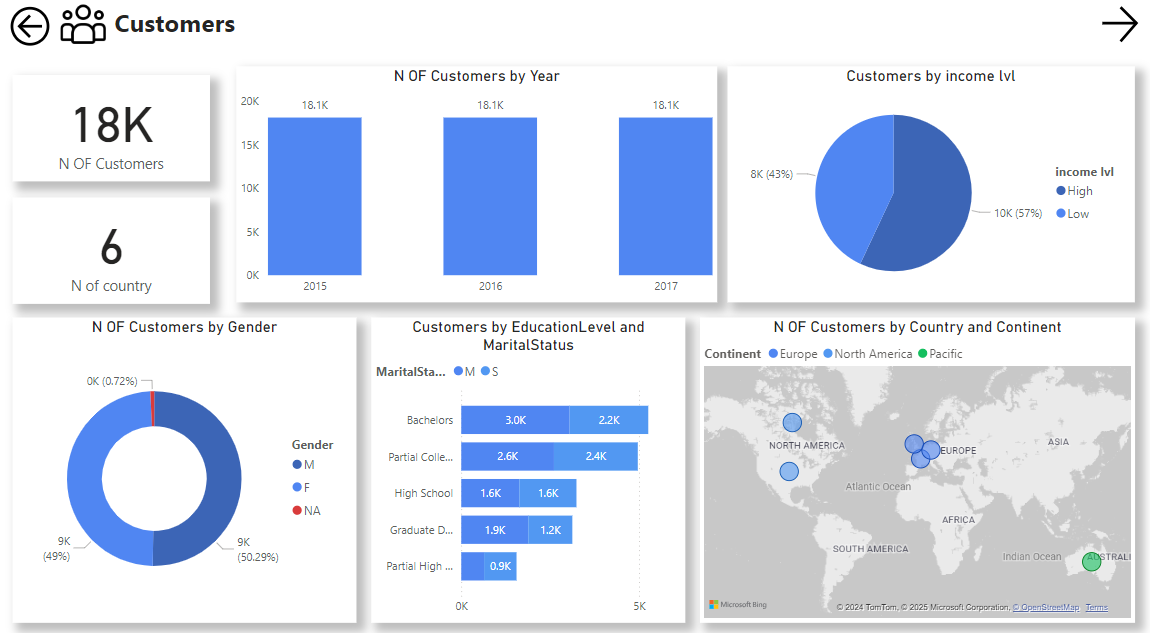

Layout of this report page (visuals, bound fields, positions):
{"tool":"powerbi","page":{"name":"customers","canvas":[1280,720],"ordinal":2},"visuals":[{"type":"actionButton","box":[16.5,12.3,111.1,54.9],"z":0},{"type":"image","box":[72.7,0,59,75.5],"z":1000},{"type":"textbox","box":[131.7,12.3,153.7,50.8],"z":2000},{"type":"actionButton","box":[1214.1,12.3,65.9,50.8],"z":3000},{"type":"card","fields":{"Values":["key measure.N OF Customers"]},"box":[25.1,92.9,216.8,116.5],"z":4000},{"type":"card","fields":{"Values":["key measure.N of country"]},"box":[25.1,227.1,216.8,116.5],"z":5000},{"type":"columnChart","fields":{"Y":["key measure.N OF Customers"],"Category":["Calendar.Year"]},"box":[269.9,84.1,528,259.6],"z":6000},{"type":"pieChart","title":"Customers by income lvl","fields":{"Y":["key measure.N OF Customers"],"Category":["Customers.income lvl"]},"box":[809.8,84.1,446.9,259.6],"z":7000},{"type":"donutChart","fields":{"Y":["key measure.N OF Customers"],"Category":["Customers.Gender"]},"box":[25.1,359.9,377.6,334.8],"z":8000},{"type":"barChart","title":"Customers by EducationLevel and MaritalStatus","fields":{"Category":["Customers.EducationLevel"],"Y":["key measure.N OF Customers"],"Series":["Customers.MaritalStatus"]},"box":[418.9,359.9,345.1,334.8],"z":9000},{"type":"map","fields":{"Category":["Territories.Country"],"Size":["key measure.N OF Customers"],"Series":["Territories.Continent"]},"box":[778.8,359.9,477.9,334.8],"z":10000}]}

Visuals, with their boxes in screenshot pixels (x1, y1, x2, y2), scaled from the page's 1280x720 canvas onto the 1150x633 screenshot:
actionButton: {"x1": 15, "y1": 11, "x2": 115, "y2": 59}
image: {"x1": 65, "y1": 0, "x2": 118, "y2": 66}
textbox: {"x1": 118, "y1": 11, "x2": 256, "y2": 55}
actionButton: {"x1": 1091, "y1": 11, "x2": 1149, "y2": 55}
card - key measure.N OF Customers: {"x1": 23, "y1": 82, "x2": 217, "y2": 184}
card - key measure.N of country: {"x1": 23, "y1": 200, "x2": 217, "y2": 302}
columnChart - key measure.N OF Customers x Calendar.Year: {"x1": 242, "y1": 74, "x2": 717, "y2": 302}
"Customers by income lvl" pieChart: {"x1": 728, "y1": 74, "x2": 1129, "y2": 302}
donutChart - key measure.N OF Customers x Customers.Gender: {"x1": 23, "y1": 316, "x2": 362, "y2": 611}
"Customers by EducationLevel and MaritalStatus" barChart: {"x1": 376, "y1": 316, "x2": 686, "y2": 611}
map - Territories.Country x key measure.N OF Customers: {"x1": 700, "y1": 316, "x2": 1129, "y2": 611}
